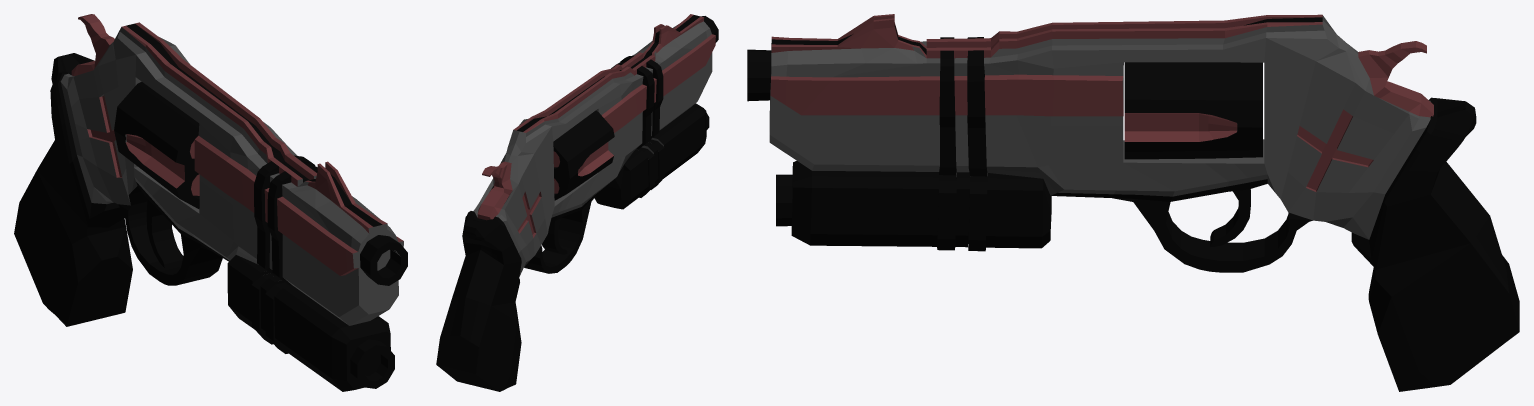
Rendered from ColoredRevolver.fbx.
3 views of the same model, side by side, from view 1: azimuth 30°, elevation 25°; view 2: azimuth 150°, elevation 25°; view 3: azimuth 270°, elevation 25° (orthographic). The views are drawn at different scales.
Parts seen in each view (by area): view 1: Body, Barrel, Trigger; view 2: Body, Barrel, Trigger; view 3: Body, Barrel, Trigger.
Boxes of the visible parts, bbox=[...] form: Body: bbox=[14, 14, 407, 391]; Barrel: bbox=[114, 81, 199, 208]; Trigger: bbox=[146, 199, 183, 267]; Body: bbox=[436, 14, 718, 391]; Barrel: bbox=[553, 110, 614, 200]; Trigger: bbox=[542, 218, 567, 254]; Body: bbox=[747, 14, 1519, 391]; Barrel: bbox=[1124, 62, 1262, 159]; Trigger: bbox=[1210, 189, 1250, 247].
Size of the model in its own units: 19.21 by 127 by 65.29.
